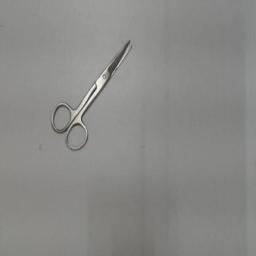Dressing Scissors: (48, 32, 138, 156)
